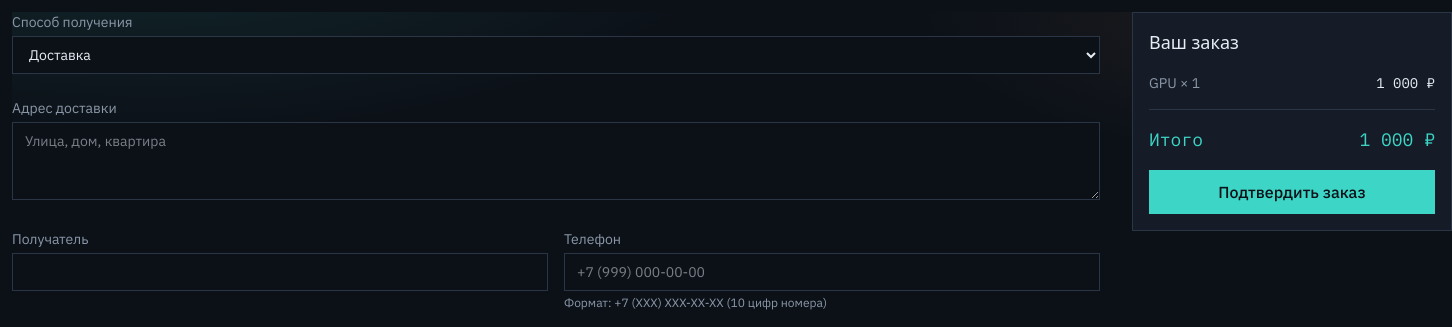
it: CheckoutForm › применяет маску к номеру телефона и показывает подсказку
Expected: the text with test id "checkout-phone-hint" shows "Формат: +7 (XXX) XXX-XX-XX", [564,295,827,310]
In the field with test id "checkout-phone": (832, 272) [564,253,1100,291], type "9991234567"
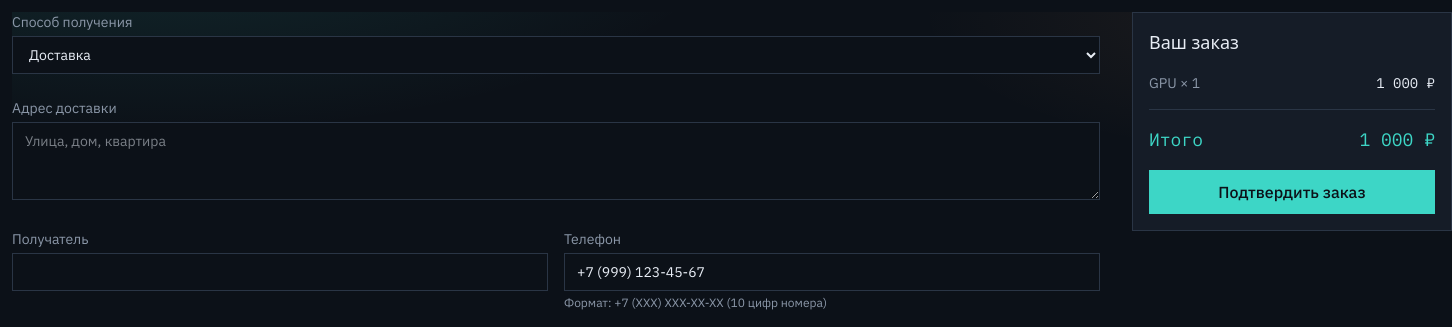
Expected: the field with test id "checkout-phone" holds "+7 (999) 123-45-67"
Replace the text in the field with test id "checkout-phone" with "+7 (99499) 123-45-67": (832, 272) [564,253,1100,291]
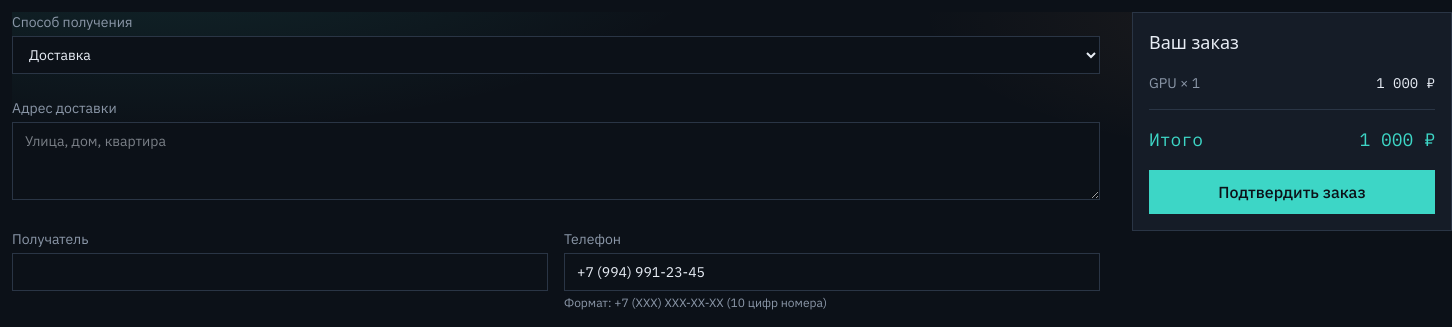
Expected: the field with test id "checkout-phone" holds "+7 (994) 991-23-45", [564,253,1100,291]
